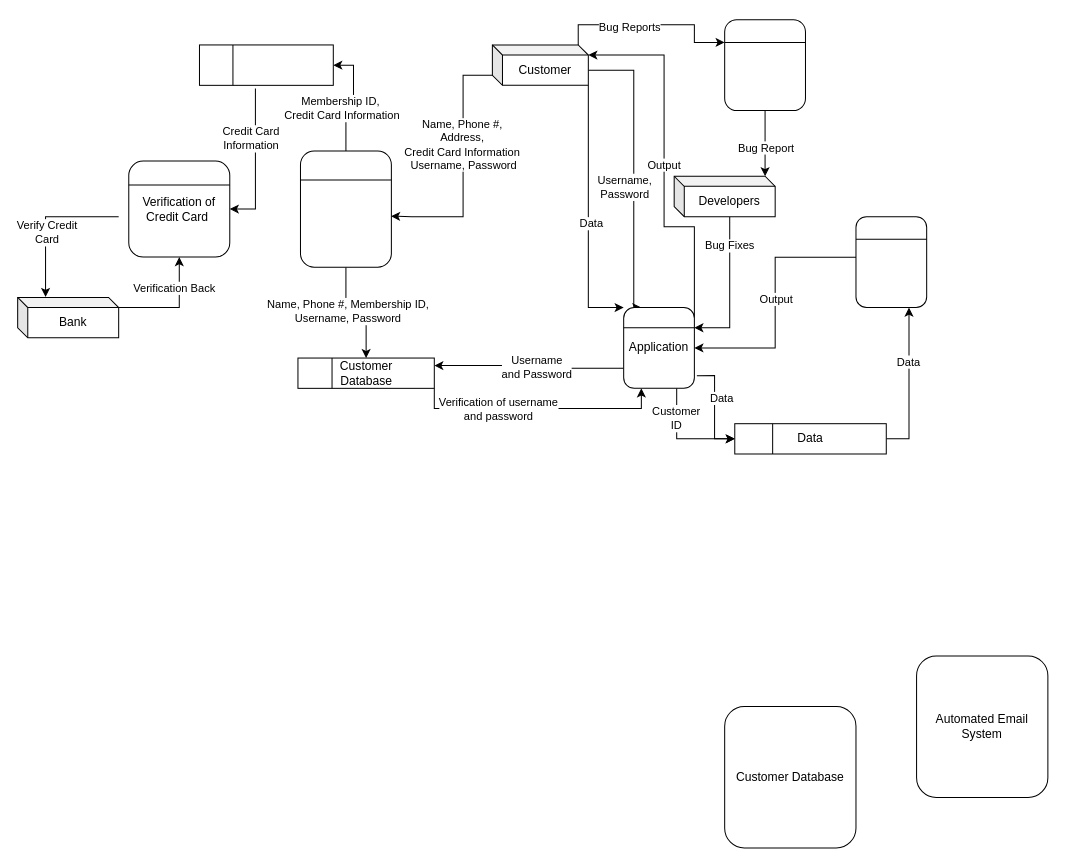
This 1067x866 diagram has some shape labels left out. Each missing label, with the box of its shape:
Artificial Intelligence: (855, 216, 927, 308)
Bug Report System: (724, 19, 805, 111)
Customer Account Creation System: (299, 150, 391, 267)
Customer Credit Card Information: (198, 44, 333, 85)
